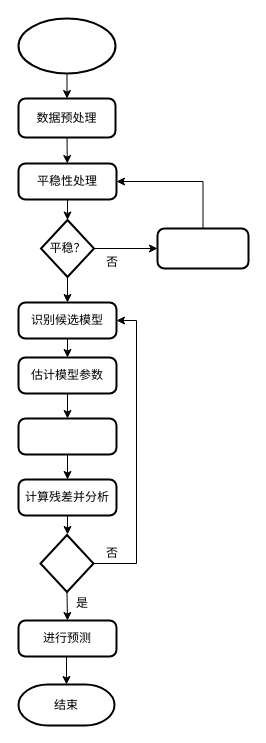
The diagram is 266 pixels wide and 743 high, and some of its shapes have lost their labels. Here are the shapes that lost their labels. From the top down, the centre of each, then its label:
At (66,45): "开始".
At (202,248): "差分运算".
At (67,436): "选择最佳模型".
At (66,563): "白噪声？".
